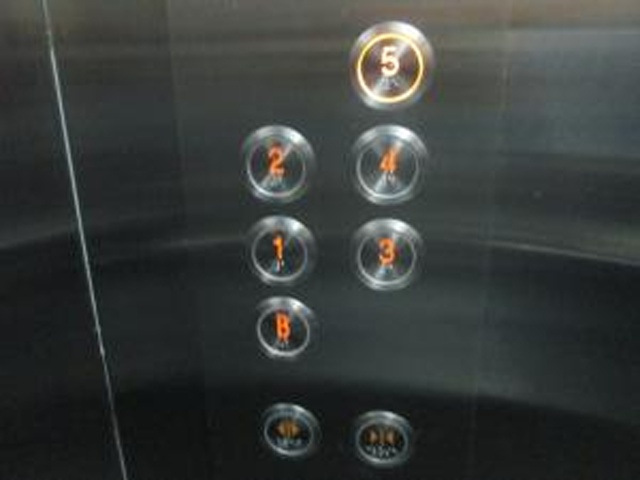1: (243, 214, 320, 289)
2: (236, 124, 319, 207)
3: (347, 215, 427, 295)
4: (345, 122, 431, 208)
5: (345, 20, 438, 114)
B: (249, 295, 324, 367)
close: (345, 408, 417, 471)
open: (255, 400, 325, 461)
